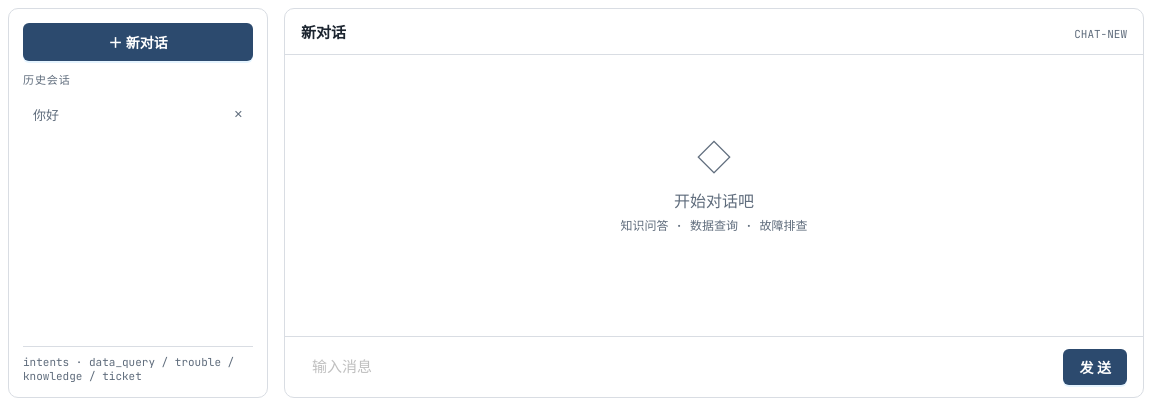
Test: ChatPage › 点击会话加载历史消息
Step 1. Click the text "你好" → [46, 116], box [33,108,59,123]
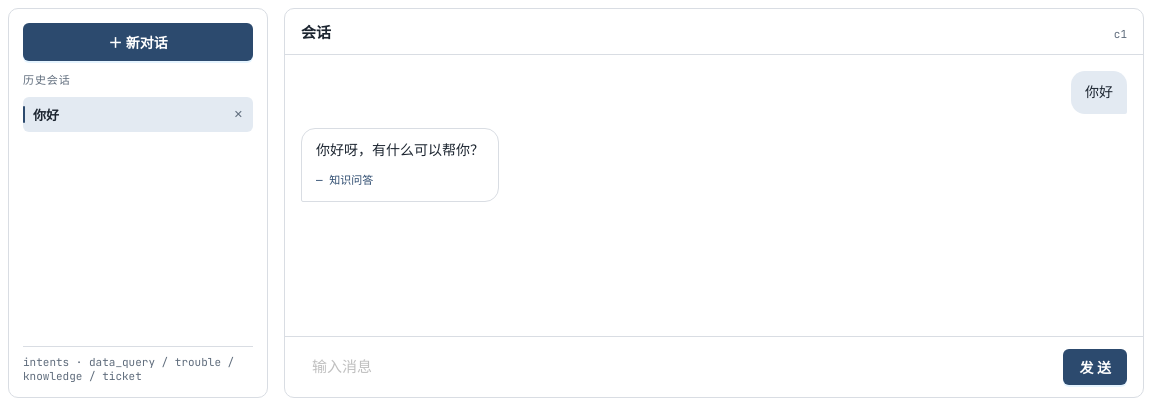
expect the text "你好呀，有什么可以帮你？" is shown: met, box [316,142,484,158]
